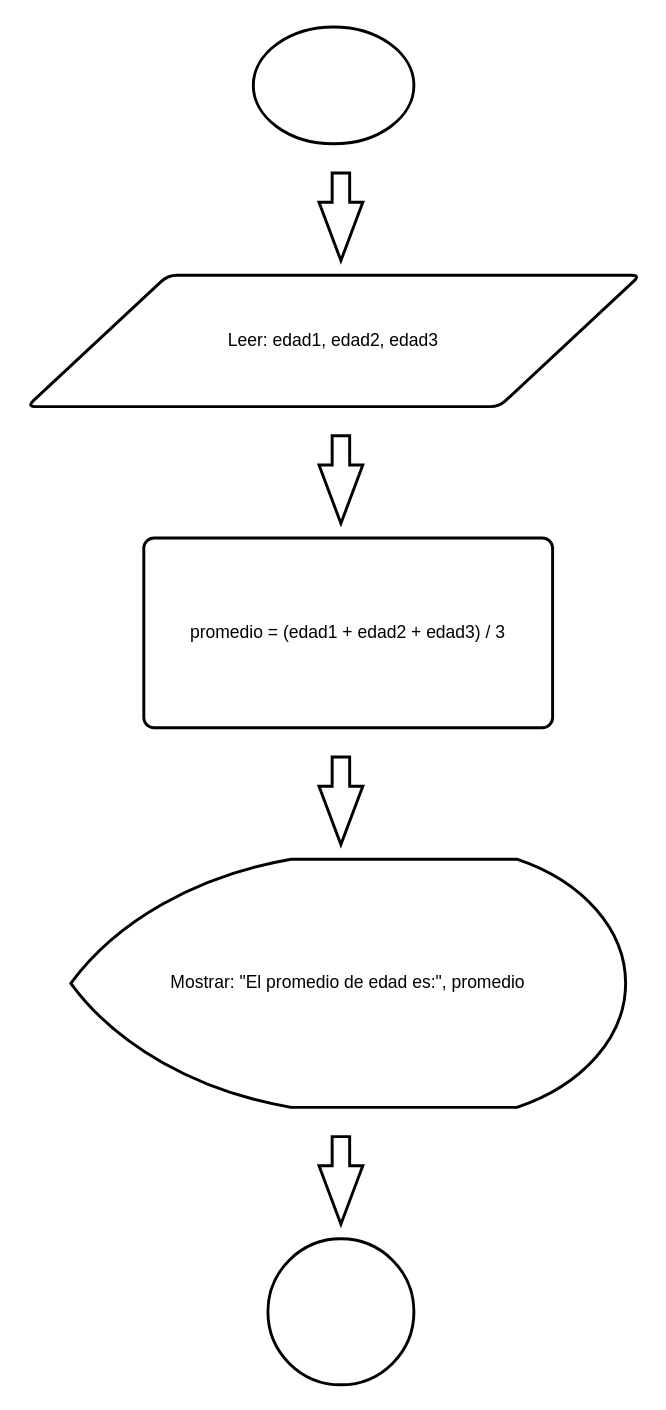
Image size: 666x1410. Some labels were removed from this diagram. Here are the shapes that lost their labels. From the top down, the centre of each, then its label:
At (333,85): "inicio".
At (340,1311): "fin".
